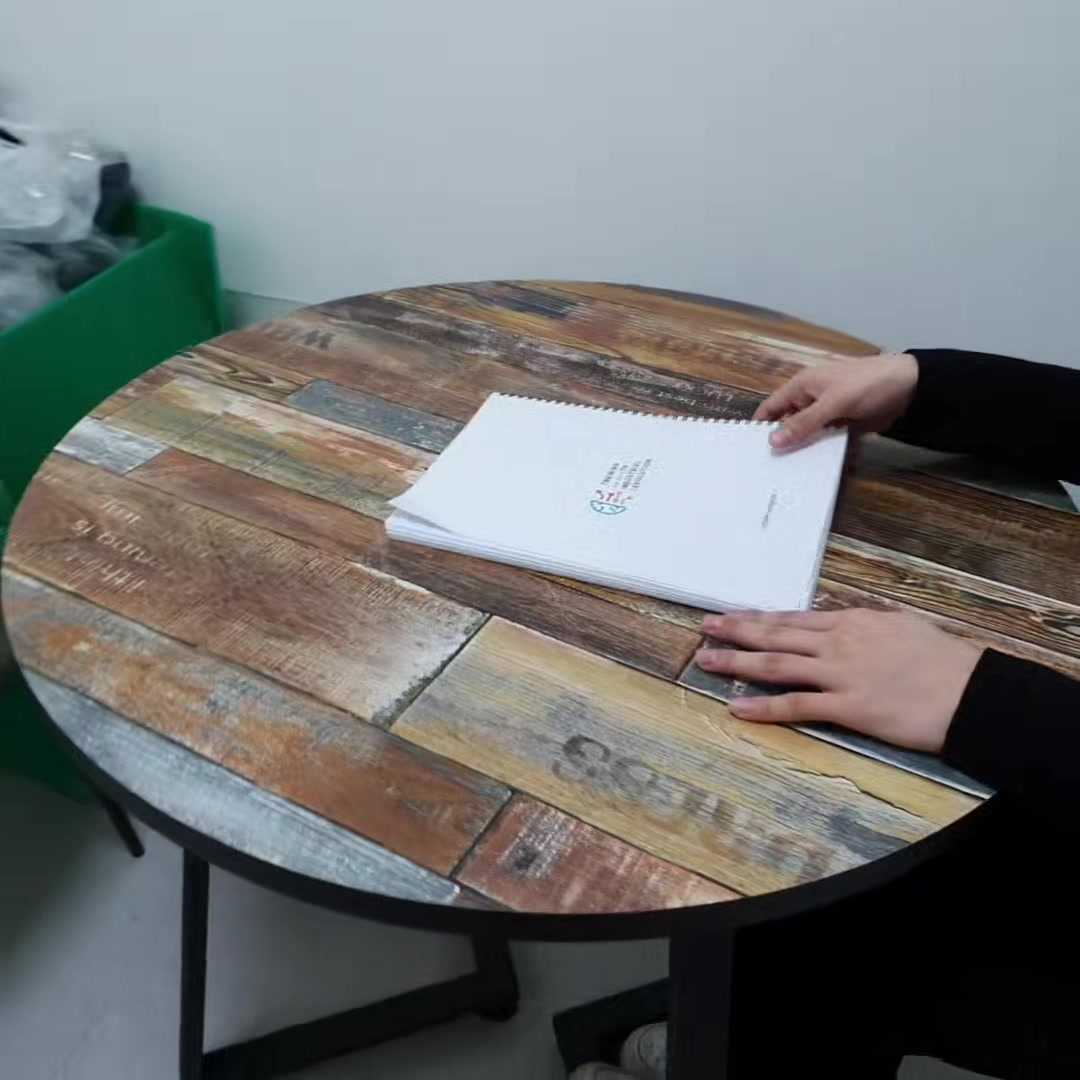book: (385, 378, 841, 625)
